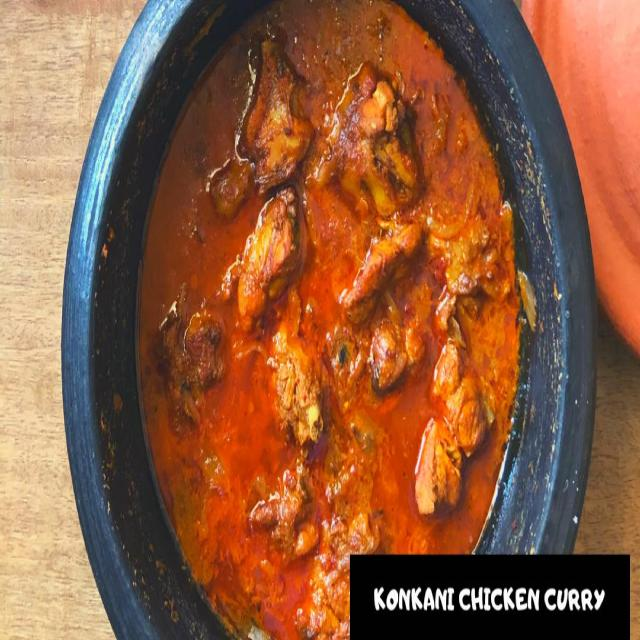chicken: (129, 52, 526, 635)
